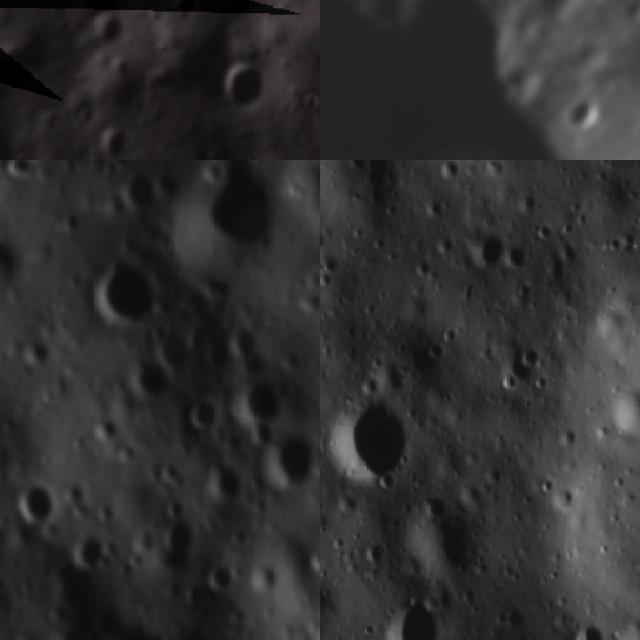crater: (603, 243, 640, 581), (320, 381, 412, 484), (196, 160, 285, 261), (406, 499, 488, 586), (200, 45, 278, 124), (92, 252, 166, 330), (260, 425, 320, 496), (17, 476, 74, 535), (152, 503, 200, 572), (234, 369, 292, 422), (126, 356, 181, 411), (204, 453, 257, 506), (65, 522, 119, 574), (157, 327, 209, 380), (393, 592, 448, 640), (115, 166, 166, 217), (179, 392, 228, 445), (470, 218, 521, 264), (86, 13, 140, 56), (89, 121, 138, 160), (19, 330, 61, 370), (568, 92, 603, 134), (206, 559, 248, 594), (4, 160, 36, 187), (574, 617, 609, 640), (617, 608, 640, 640), (307, 540, 320, 574), (622, 0, 640, 23), (568, 30, 583, 48)
